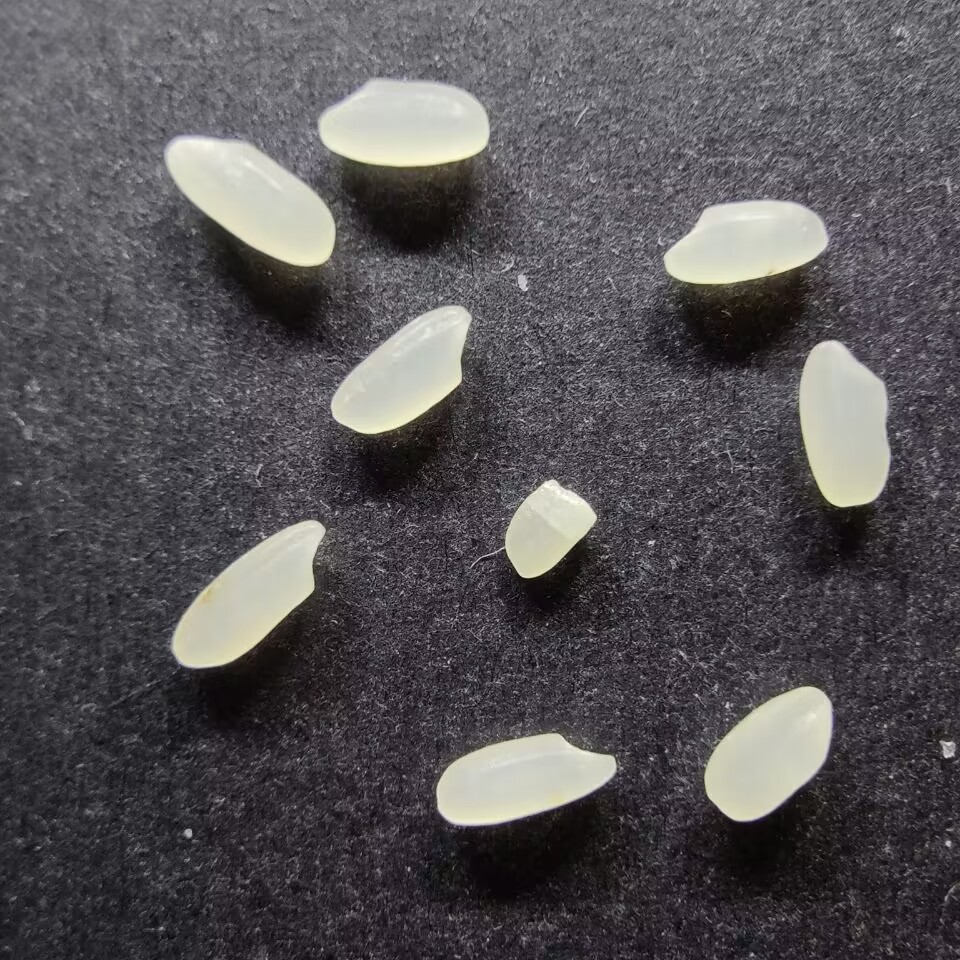broken: (503, 474, 601, 582)
rice: (168, 517, 328, 670), (163, 133, 337, 268), (327, 303, 472, 436), (701, 684, 834, 823), (434, 730, 616, 828), (796, 338, 893, 509), (315, 76, 492, 169), (661, 198, 829, 286)
